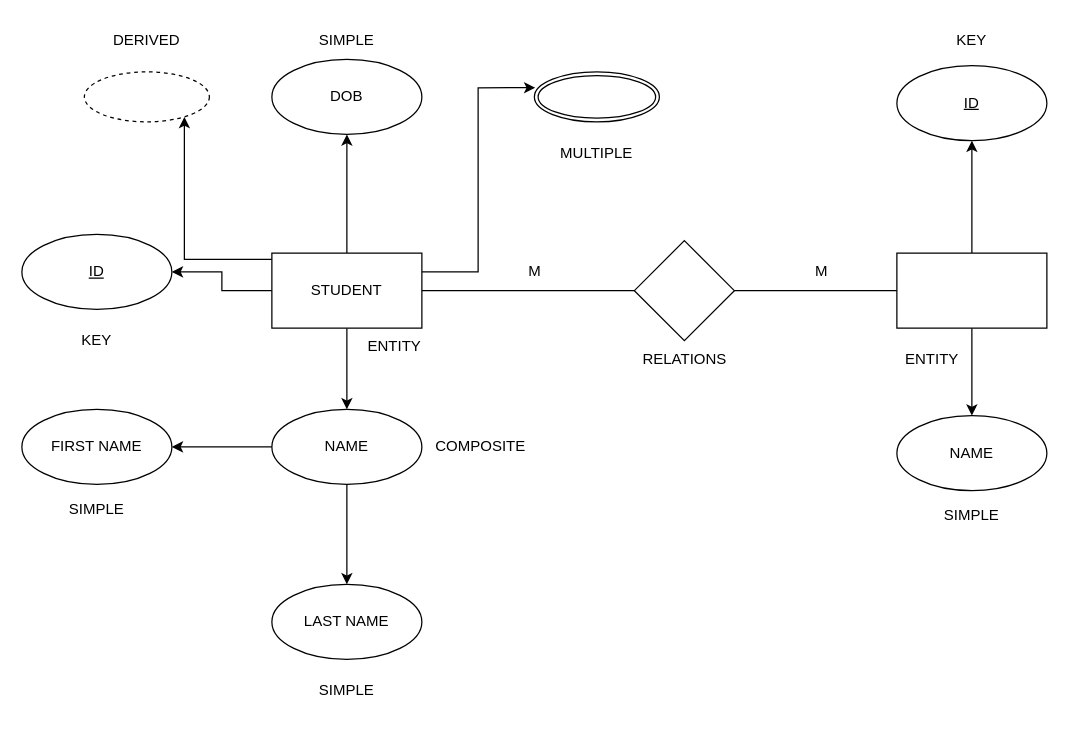
Image size: 1069x730. Some labels were removed from this diagram. The shapes that lost their labels are listed below. From the top down, each one's centre as x and y in pixels, then its label:
At [146,96]: "AGE".
At [596,96]: "EMAIL".
At [683,290]: "STUDIES".
At [971,290]: "BATCH".
